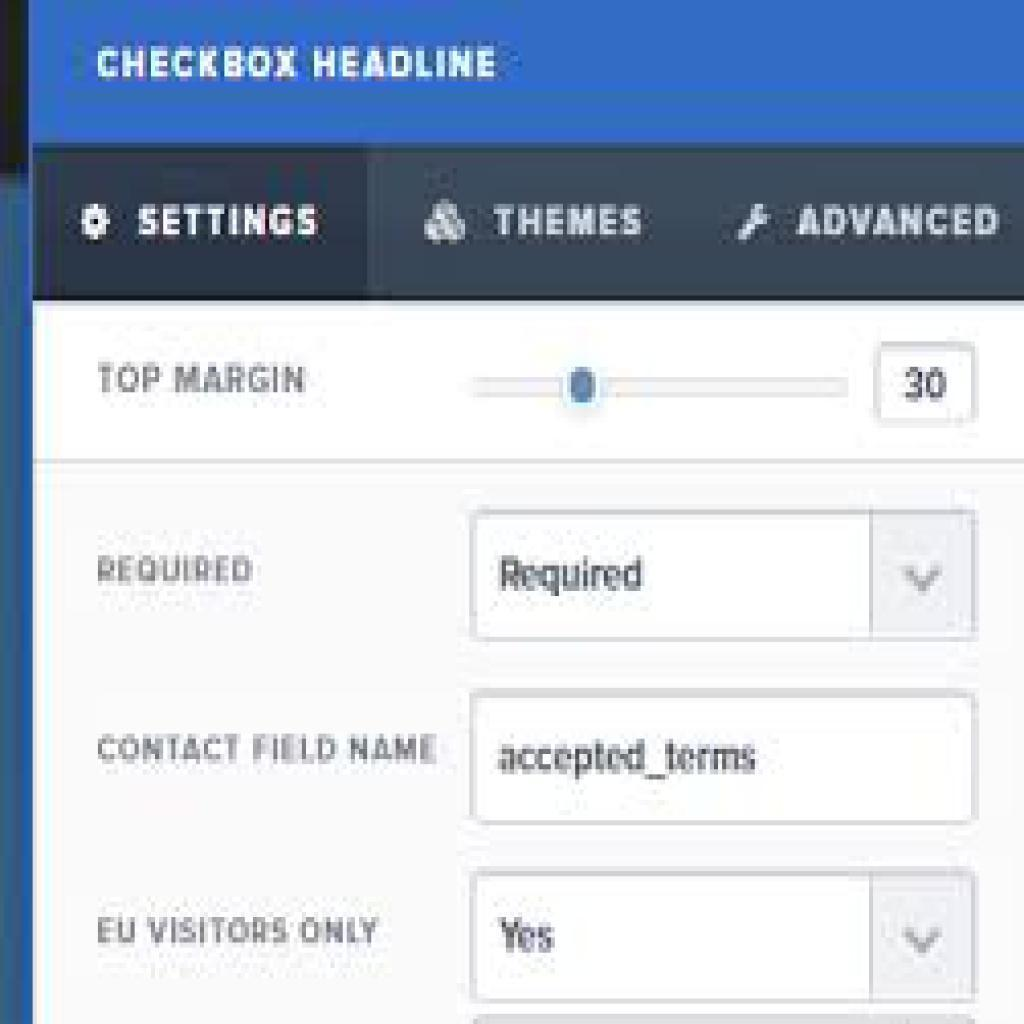button: (34, 144, 371, 301)
dropdown: (475, 510, 975, 644), (474, 871, 975, 1002)
icon: (421, 195, 474, 248), (74, 194, 122, 252), (735, 200, 774, 250)
input: (470, 691, 978, 825), (877, 344, 980, 423)
label: (90, 731, 439, 776), (94, 912, 384, 952), (95, 357, 309, 403), (795, 201, 1008, 244), (490, 194, 646, 244), (94, 548, 258, 592)
slider: (466, 364, 853, 410)
